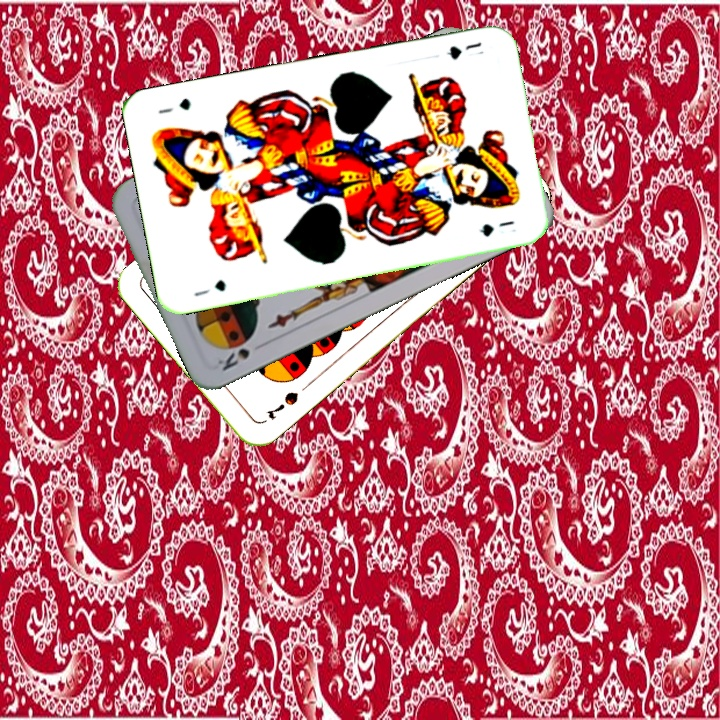GU: (442, 38, 486, 62), (190, 276, 228, 299)
S7: (262, 387, 302, 423)
SK: (212, 338, 268, 374)
